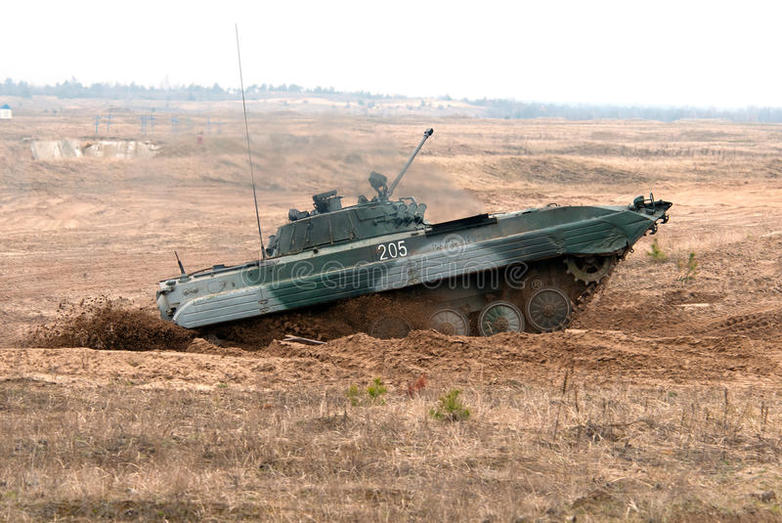bmp: (162, 193, 670, 345)
